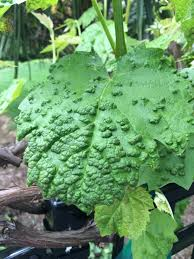Diseased_Leaves: (36, 81, 131, 128), (72, 145, 127, 206), (32, 130, 70, 197), (171, 166, 184, 175), (102, 131, 110, 138), (150, 117, 161, 122)
